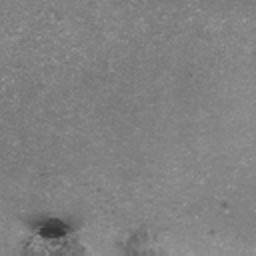Iron sheet ash: (36, 219, 72, 239)
